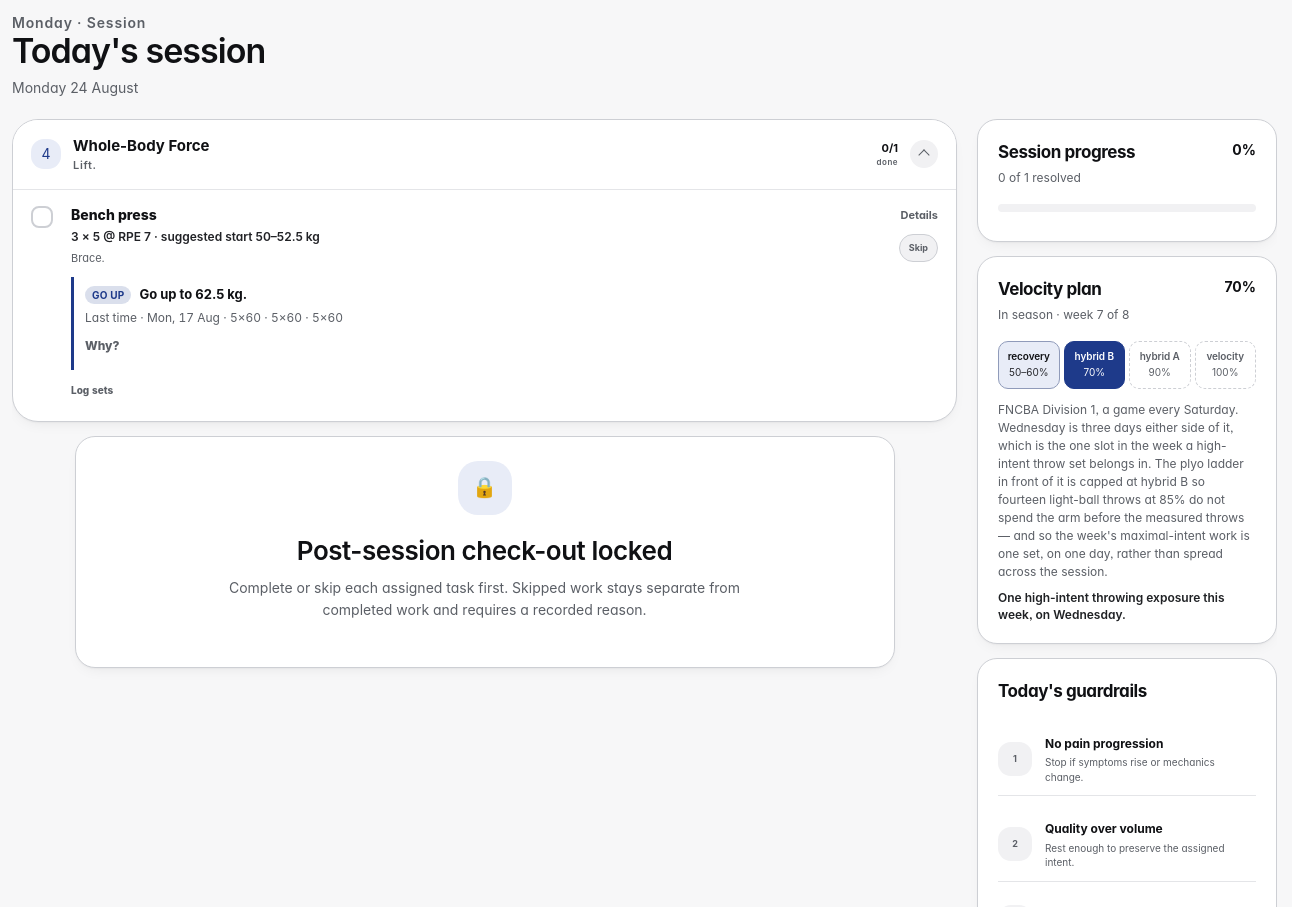
it: what you lifted last time › keeps the reasoning one tap away rather than on the face of it
Expected: the text "every set at 5 reps or better" is not shown
Click the button "Why?".
click(102, 346)  # box [85,330,120,360]
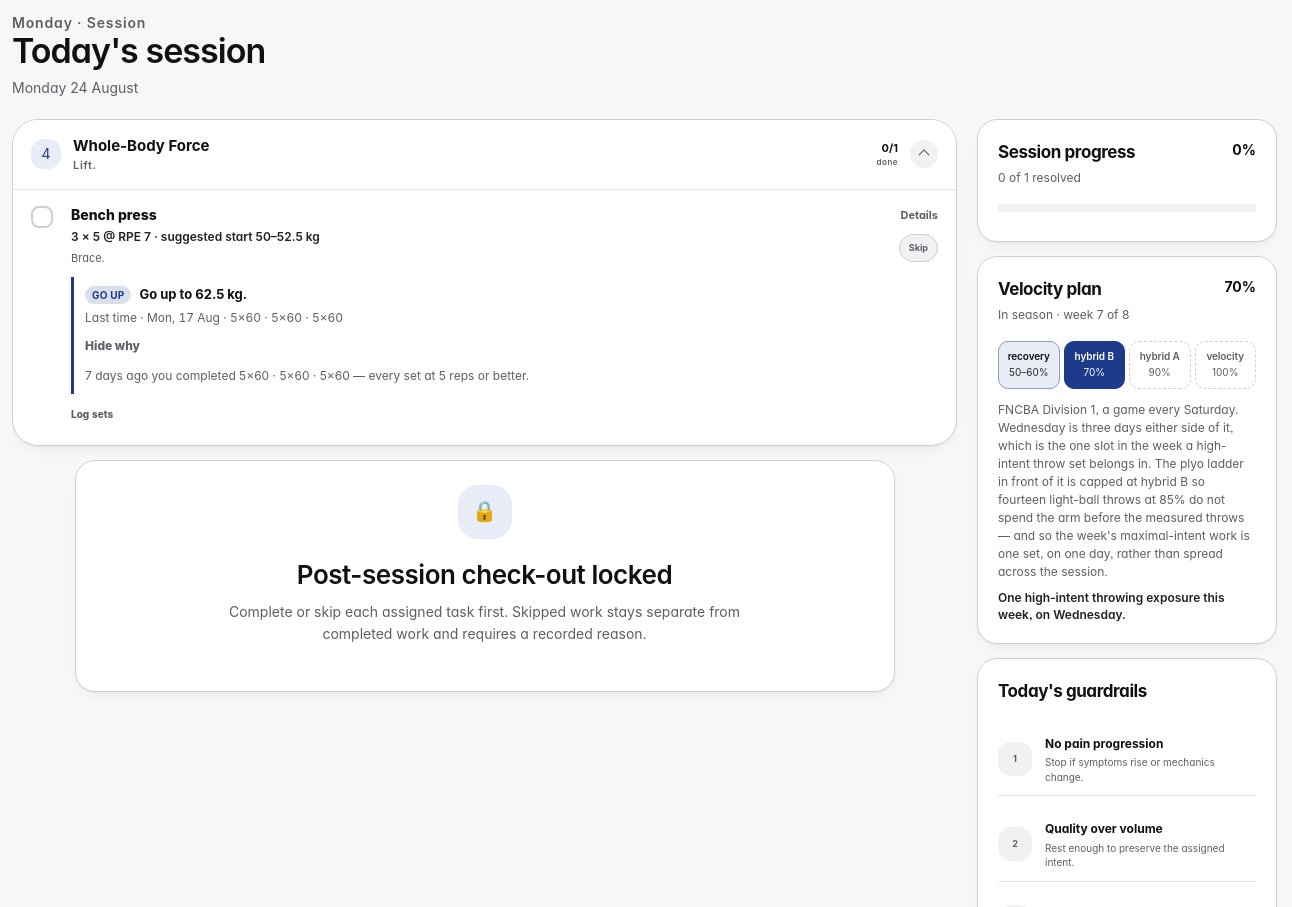
Result: the text "every set at 5 reps or better" is shown at [85,368,529,382]
